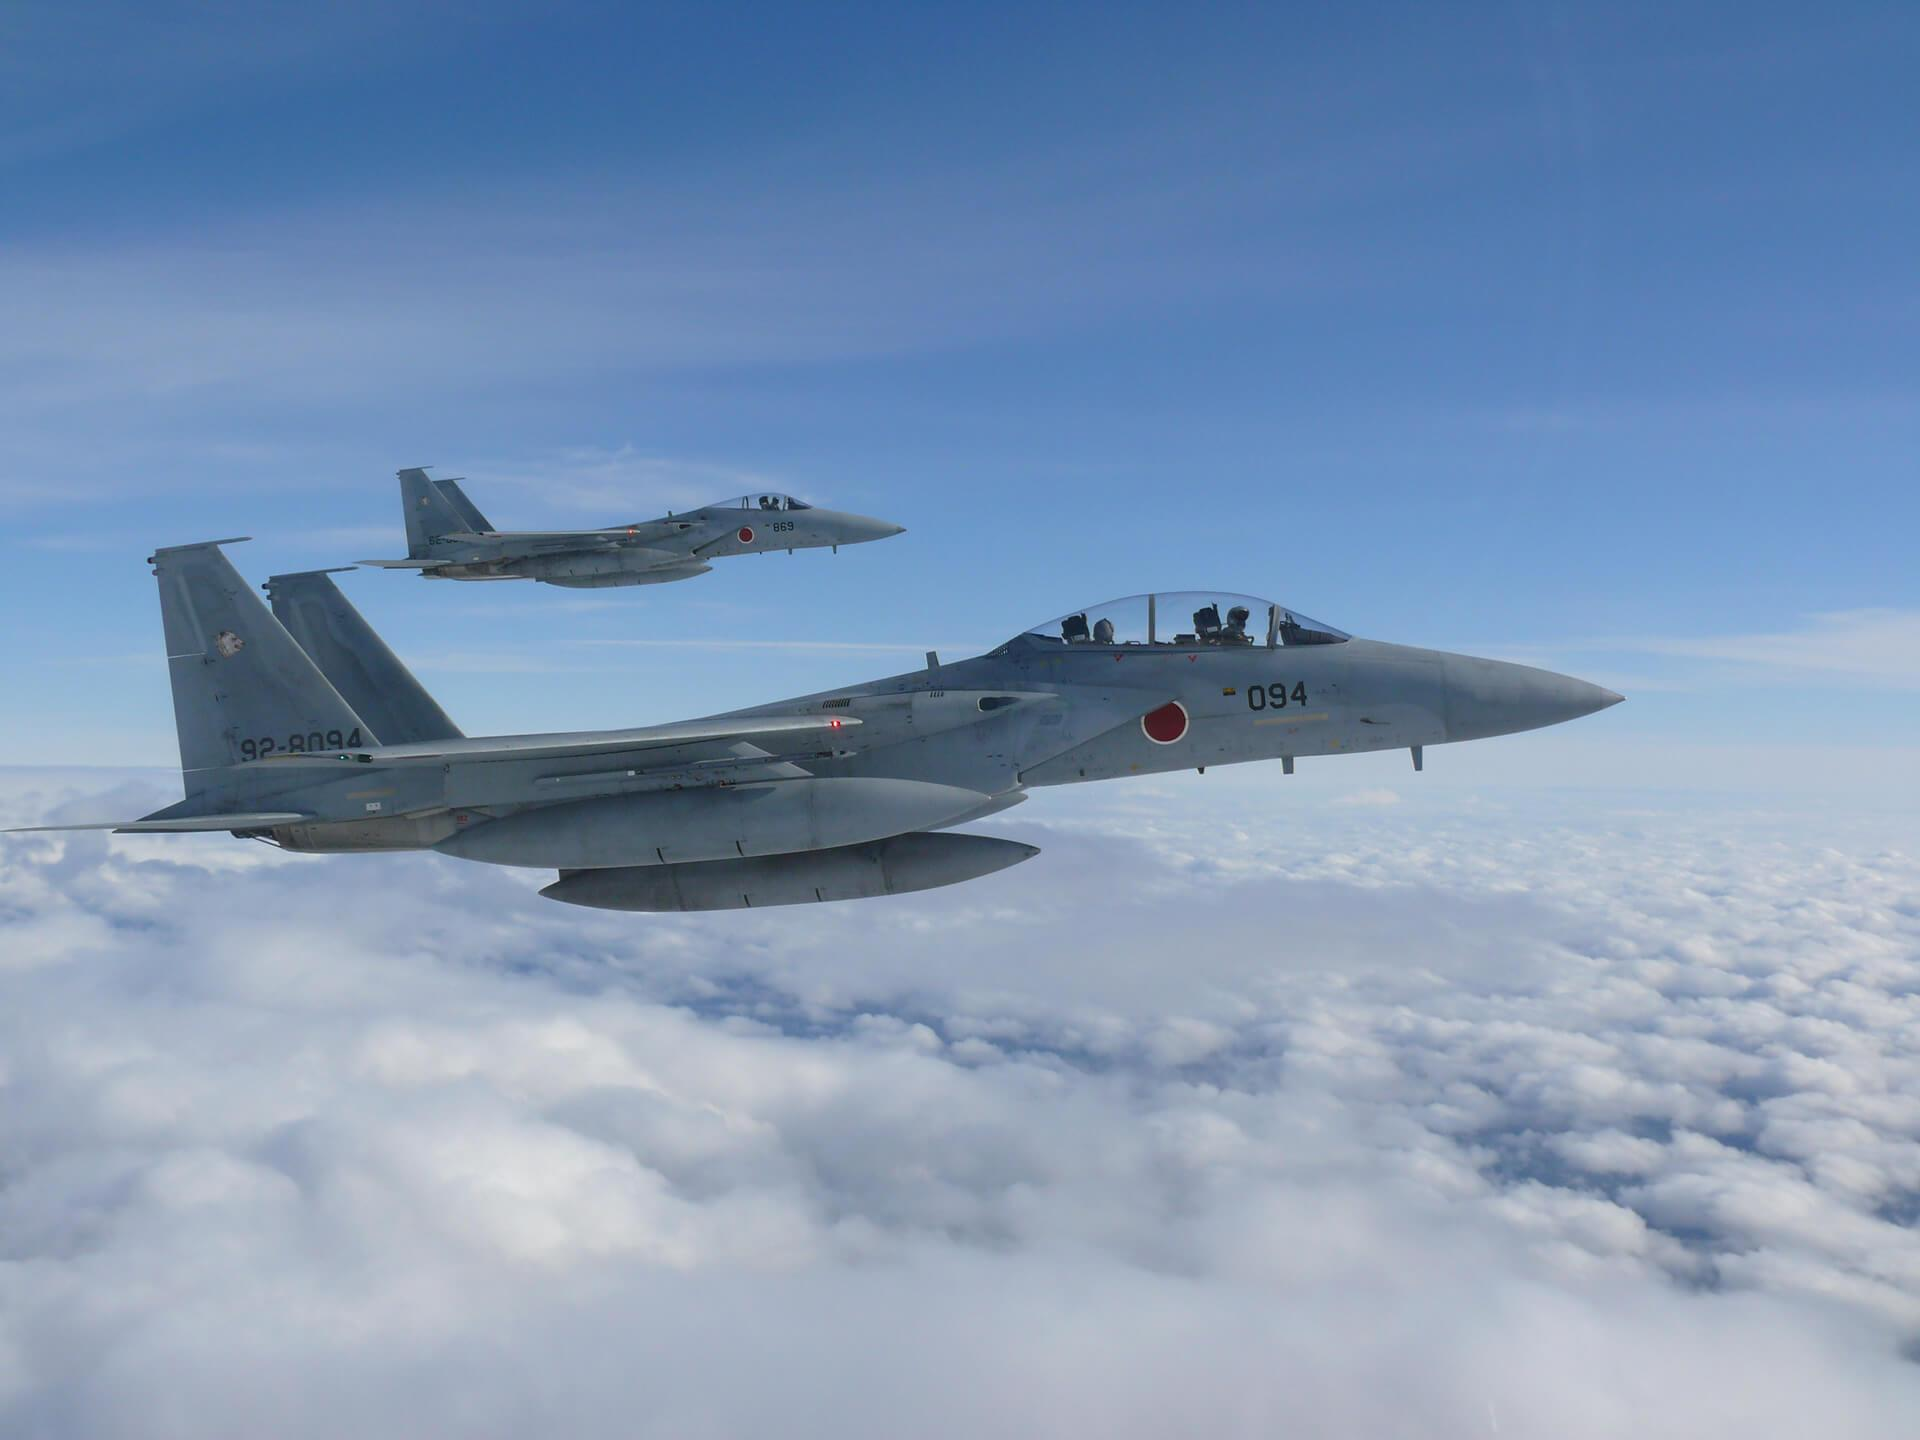airplane: (5, 532, 1640, 918), (348, 439, 906, 604)
